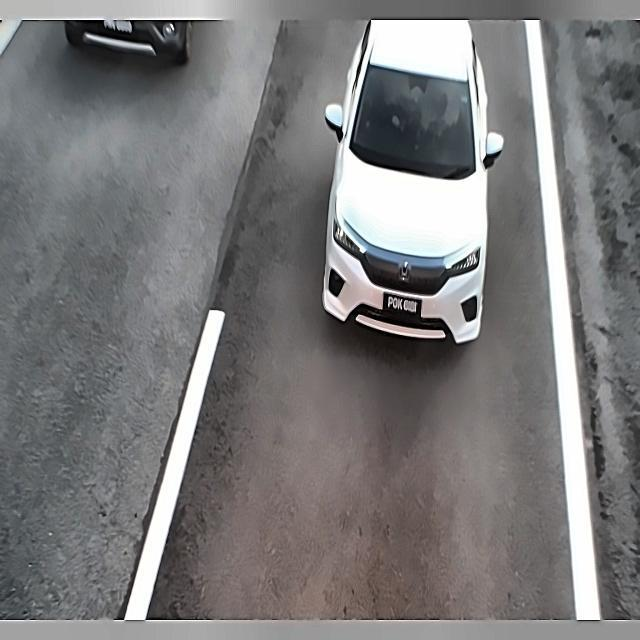car: (377, 289, 426, 322), (99, 16, 133, 39)
